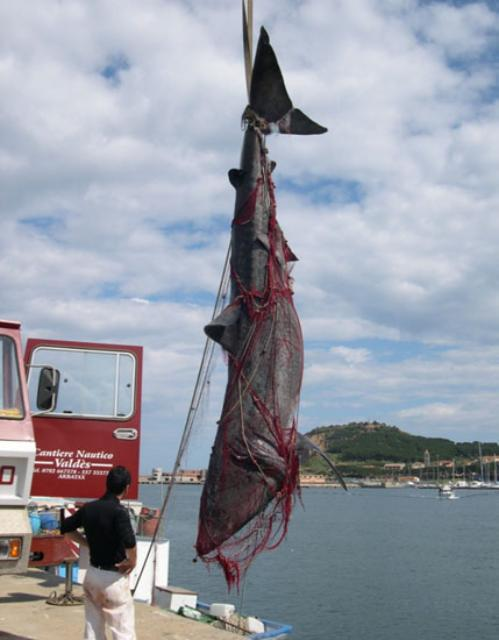Sirip Anal: (214, 148, 296, 200)
Sirip Ekor: (238, 19, 332, 148)
Sirip Perut: (268, 220, 312, 278)
Sirip Punggung: (194, 286, 262, 368)
